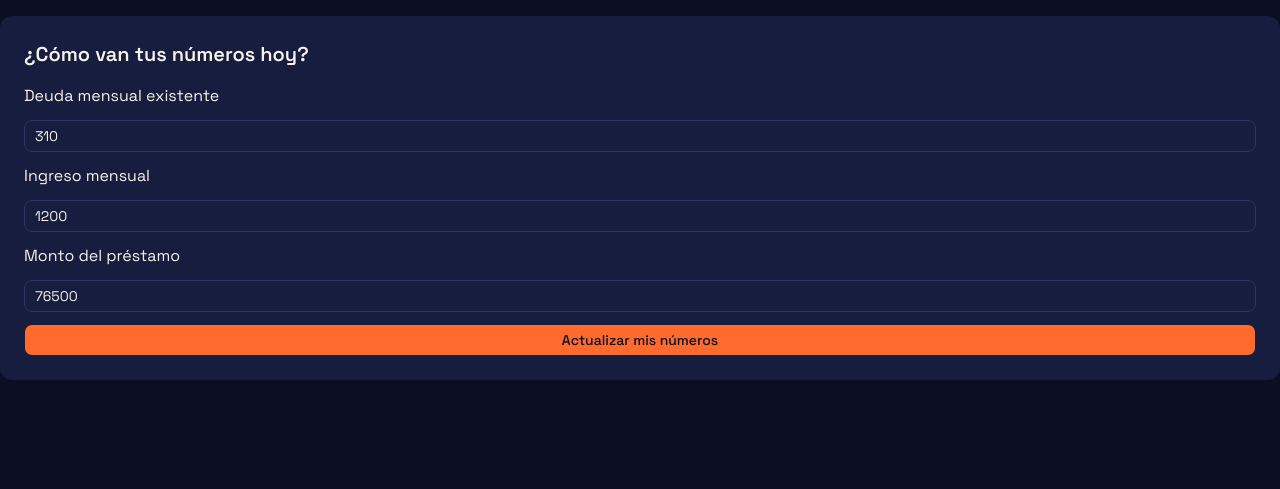
Test: CheckInForm › sends the updated numbers to the check-in endpoint and reports the result upward
Replace the text in the field labelled "Deuda mensual existente" with "100" at (640, 136), box [24,120,1256,152]
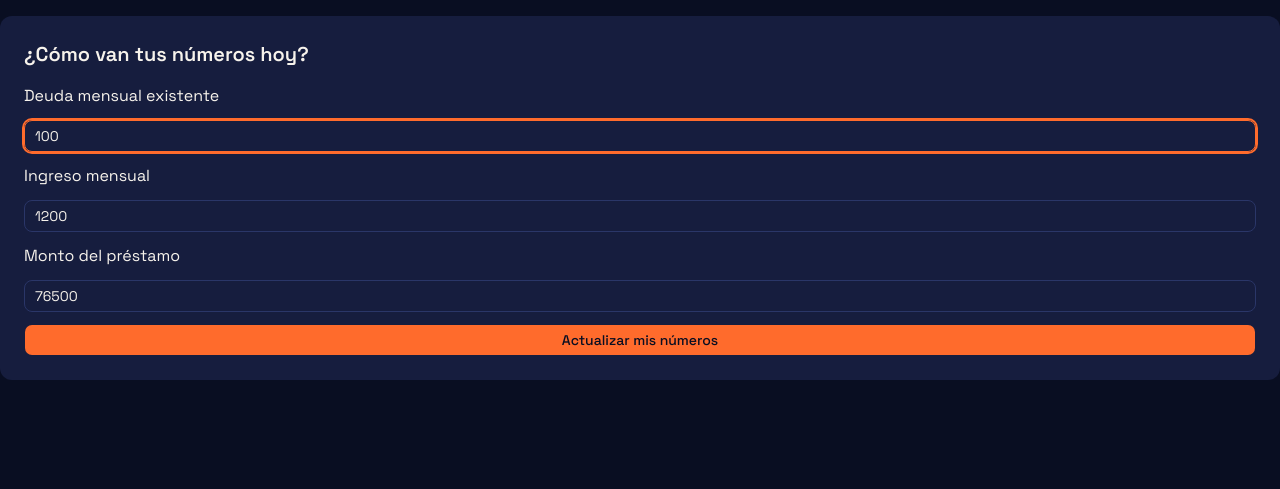
Click the button "Actualizar mis números" at (640, 340), box [24,324,1256,356]
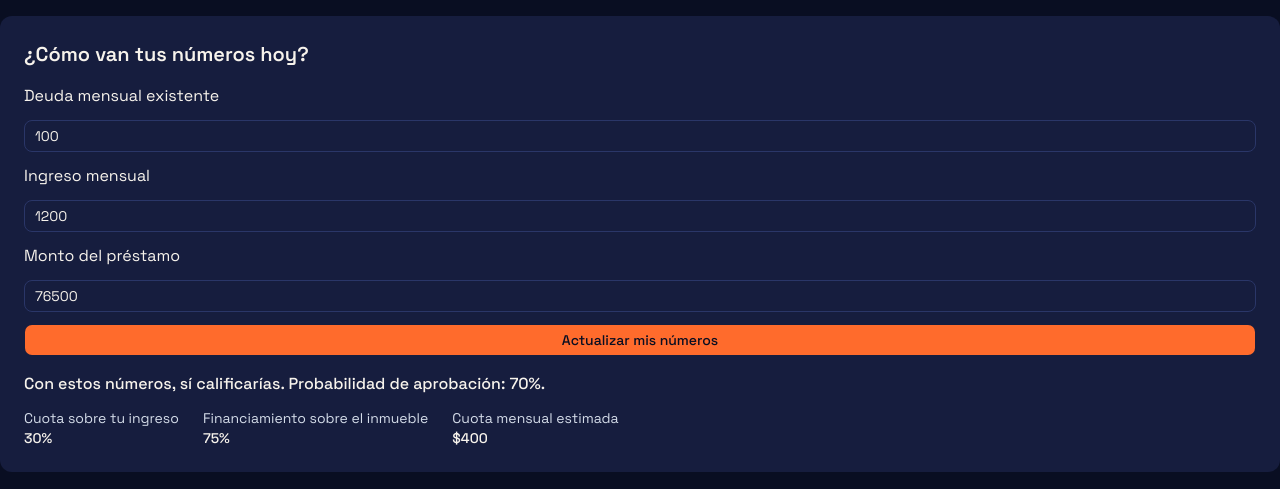
Now the text "Con estos números, sí calificarías" is shown, box [24,373,284,394]
